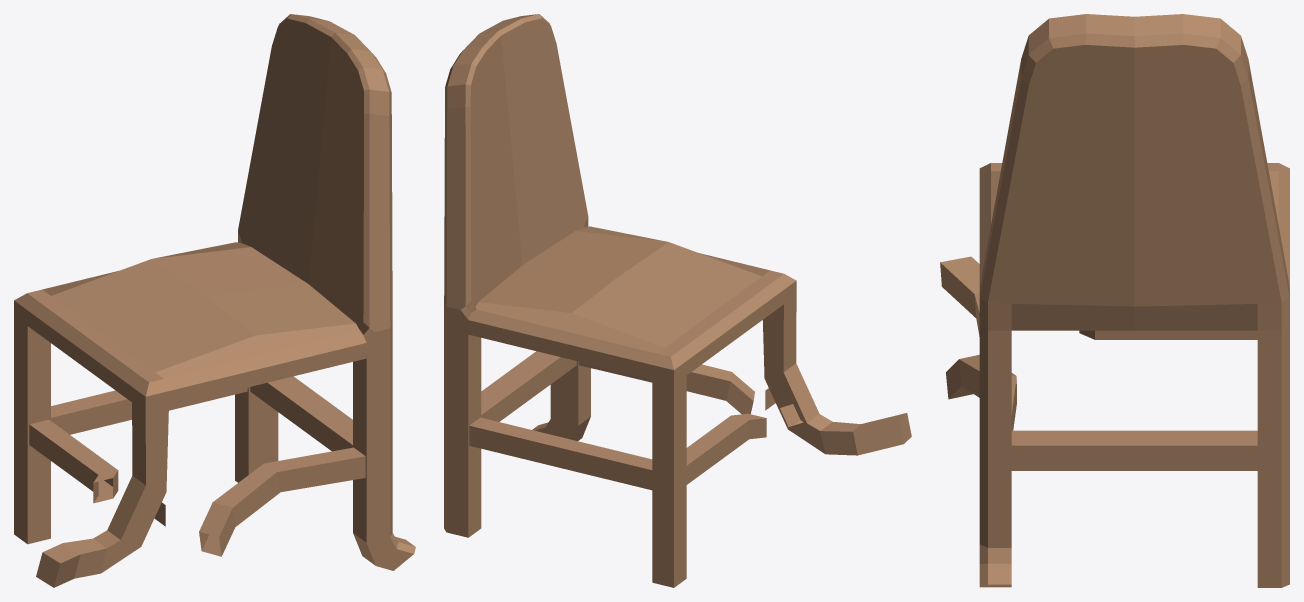
File: cadeira quebrada.fbx
The picture shows the model from 3 angles, left to right: view 1: azimuth 30°, elevation 25°; view 2: azimuth 150°, elevation 25°; view 3: azimuth 270°, elevation 25°; orthographic projection. The views are drawn at different scales.
Visible parts, largest first — view 1: cadeira quebrada; view 2: cadeira quebrada; view 3: cadeira quebrada.
Boxes of the visible parts, box(x1,y1,x2,y2) form: cadeira quebrada: box(14, 14, 415, 587); cadeira quebrada: box(444, 14, 911, 587); cadeira quebrada: box(940, 14, 1289, 587).
Size of the model in its own units: 85.13 by 101 by 55.75.
